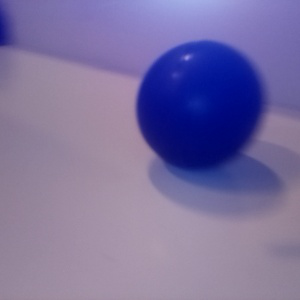dead_ball: (137, 40, 262, 168)
